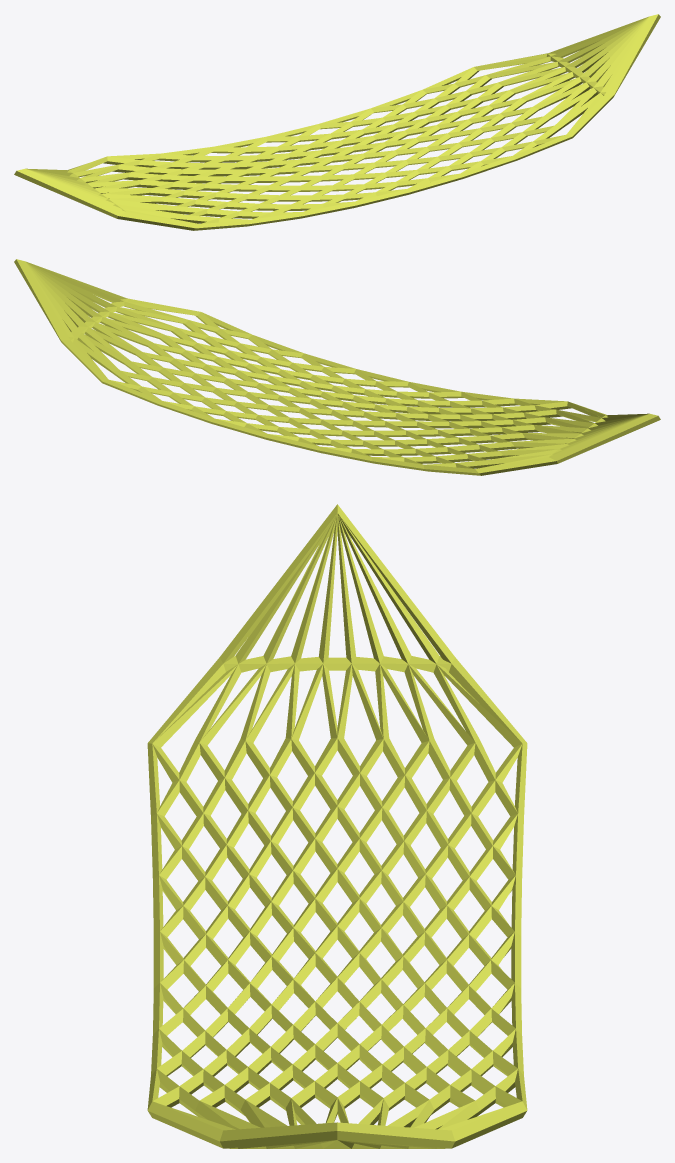
Rendered from Hammock_forced_To_Be.fbx.
3 views of the same model, one above another, from view 1: azimuth 30°, elevation 25°; view 2: azimuth 150°, elevation 25°; view 3: azimuth 270°, elevation 25° (orthographic). The views are drawn at different scales.
Parts seen in each view (by area): view 1: Hammock_01_renamed; view 2: Hammock_01_renamed; view 3: Hammock_01_renamed.
Boxes of the visible parts, <box> form: Hammock_01_renamed: <box>14,14,660,230</box>; Hammock_01_renamed: <box>14,259,660,475</box>; Hammock_01_renamed: <box>147,504,527,1148</box>.
Bounding box in the file's own units: 2861 × 328 × 727.
